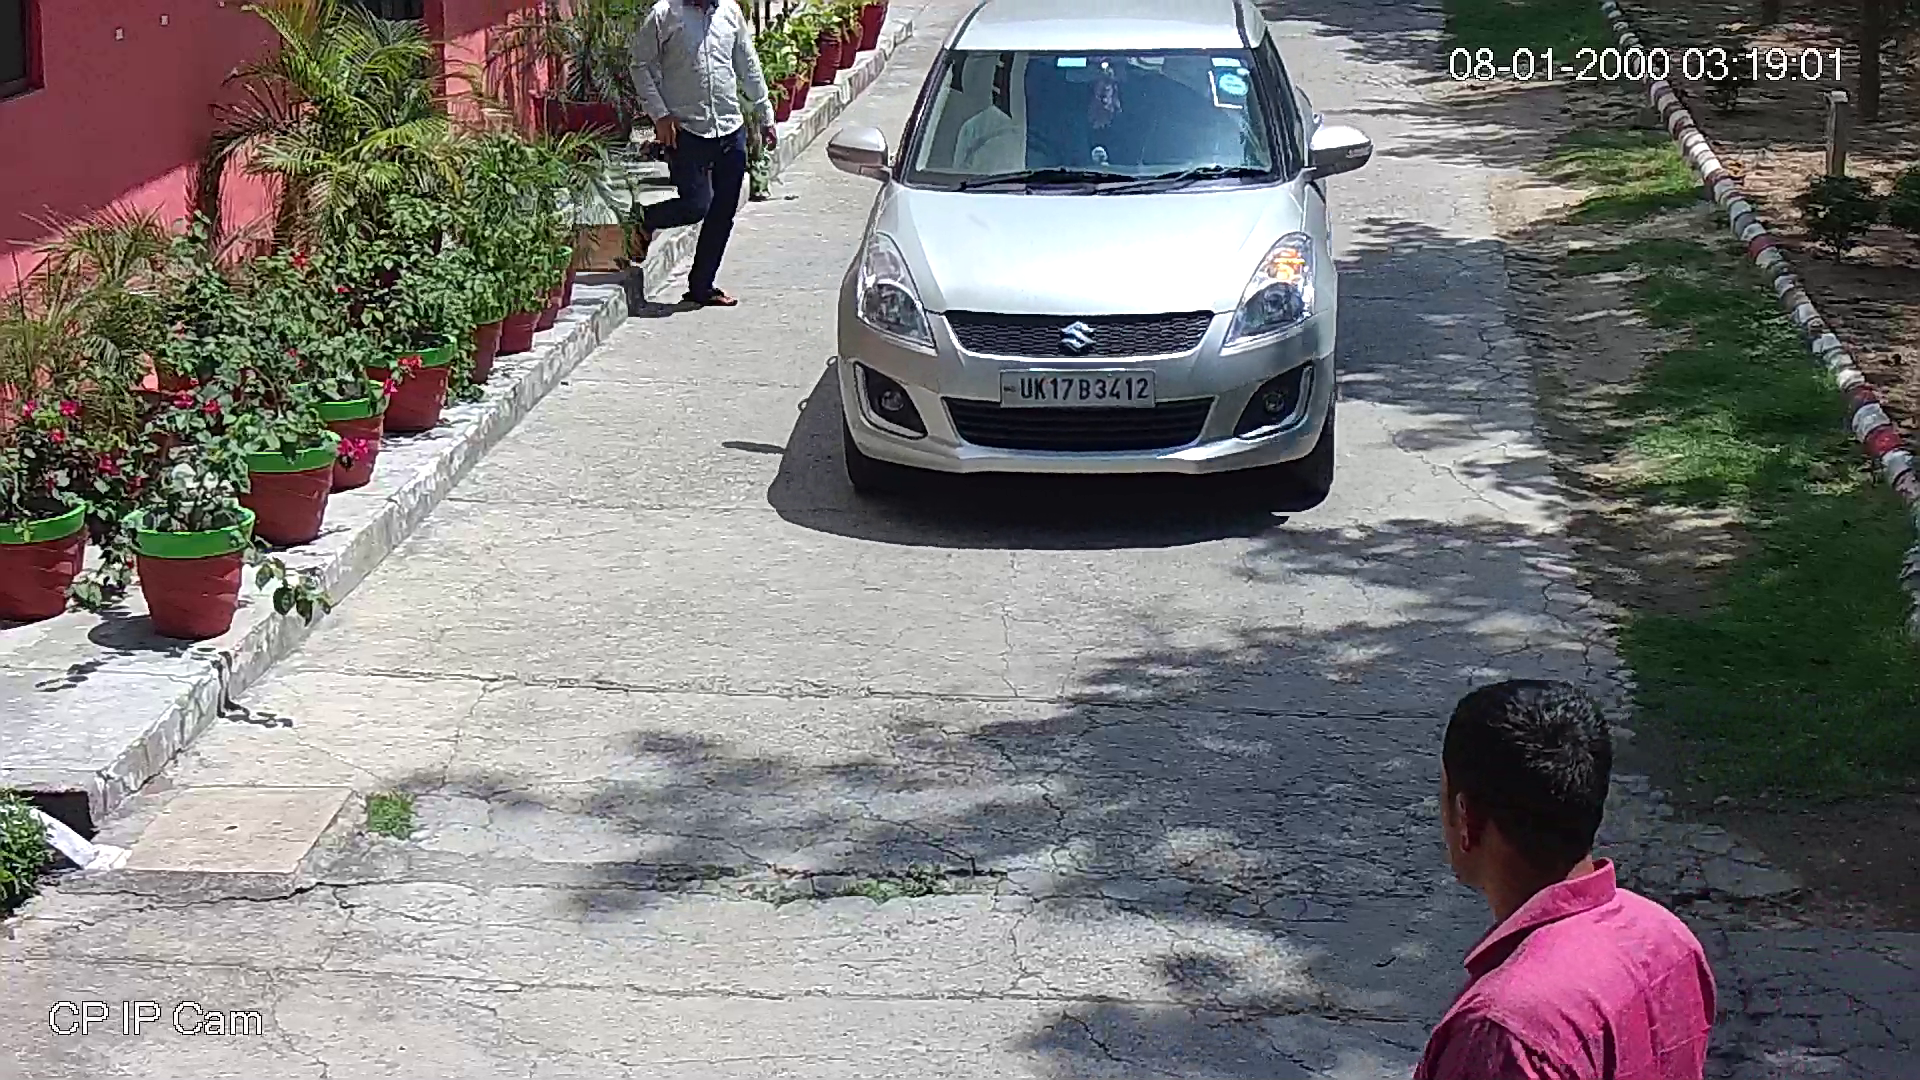plate: (993, 362, 1163, 415)
